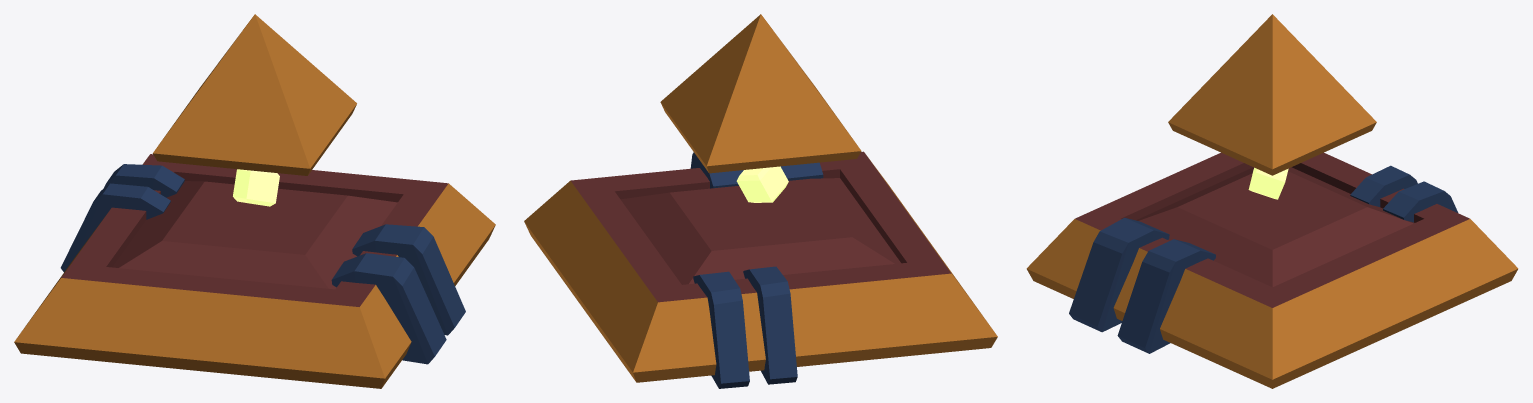
The model's file is Goal.fbx.
3 views of the same model, side by side, from view 1: azimuth 30°, elevation 25°; view 2: azimuth 150°, elevation 25°; view 3: azimuth 270°, elevation 25° (orthographic). The views are drawn at different scales.
Parts seen in each view (by area): view 1: pyramid, shell, shell.001, lil_light; view 2: pyramid, shell.001, lil_light, shell; view 3: pyramid, shell, shell.001, lil_light.
Boxes of the visible parts, box(x1,y1,x2,y2) form: pyramid: box(14, 14, 495, 388); shell: box(331, 224, 465, 364); shell.001: box(60, 164, 184, 272); lil_light: box(233, 169, 279, 206); pyramid: box(524, 14, 997, 382); shell.001: box(693, 266, 797, 388); lil_light: box(736, 166, 788, 202); shell: box(690, 152, 823, 188); pyramid: box(1026, 14, 1518, 388); shell: box(1069, 217, 1215, 353); shell.001: box(1350, 165, 1458, 222); lil_light: box(1248, 167, 1288, 199).
Bounding box in the file's own units: 236 × 137 × 221.
